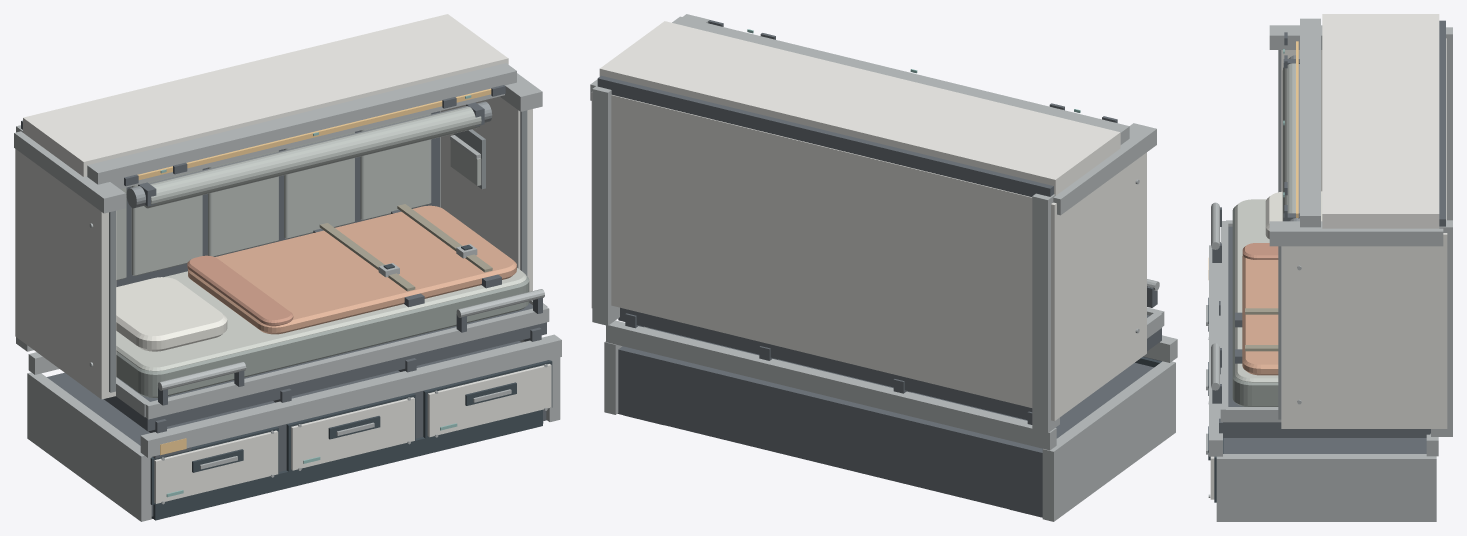
File: crew_sleep_berth_v1.glb
3 renders of one model, left to right at view 1: azimuth 30°, elevation 25°; view 2: azimuth 150°, elevation 25°; view 3: azimuth 270°, elevation 25°, orthographic. The views are drawn at different scales.
Visible parts, largest first — view 1: Cabin_Canopy_Top, Cabin_End_Shells, Cabin_Acoustic_Wall_Cushions, Sleep_Duvet, Cabin_Canopy_Front_Lip, Chassis_Underbed_Front_Rail, Chassis_Ends, Sleep_Mattress_Side_Seam, Privacy_Curtain_Fabric, Sleep_Deck_Bumper_Front, Chassis_Toe_Kick, Sleep_Mattress_Main (+23 smaller); view 2: Cabin_Back_Shell, Cabin_Canopy_Top, Chassis_Lower_Base, Cabin_End_Shells, Chassis_Ends, Chassis_Underbed_Rear_Rail, Cabin_Rear_Posts, Cabin_Canopy_Back_Beam, Sleep_Deck_Support, Cabin_Canopy_Front_Lip, Cabin_End_Top_Brace; view 3: Cabin_End_Shells, Cabin_Canopy_Top, Chassis_Ends, Cabin_Canopy_Front_Lip, Cabin_End_Top_Brace, Sleep_Duvet, Chassis_Lower_Base, Cabin_Rear_Posts, Sleep_Deck_Support, Sleep_Mattress_Main, Privacy_Curtain_Fabric, Chassis_Underbed_Front_Rail (+12 smaller).
Boxes of the visible parts, left/top/right/bottom form: Cabin_Canopy_Top: left=23, top=14, right=508, bottom=176; Cabin_End_Shells: left=15, top=96, right=532, bottom=399; Cabin_Acoustic_Wall_Cushions: left=116, top=113, right=431, bottom=280; Sleep_Duvet: left=188, top=205, right=516, bottom=334; Cabin_Canopy_Front_Lip: left=87, top=63, right=516, bottom=188; Chassis_Underbed_Front_Rail: left=140, top=334, right=561, bottom=457; Chassis_Ends: left=27, top=340, right=560, bottom=521; Sleep_Mattress_Side_Seam: left=116, top=276, right=529, bottom=397; Privacy_Curtain_Fabric: left=144, top=106, right=481, bottom=208; Sleep_Deck_Bumper_Front: left=145, top=305, right=549, bottom=419; Chassis_Toe_Kick: left=151, top=410, right=542, bottom=520; Sleep_Mattress_Main: left=116, top=268, right=526, bottom=371; Cabin_Back_Shell: left=611, top=95, right=1032, bottom=407; Cabin_Canopy_Top: left=599, top=21, right=1120, bottom=195; Chassis_Lower_Base: left=617, top=327, right=1153, bottom=517; Cabin_End_Shells: left=591, top=92, right=1146, bottom=421; Chassis_Ends: left=604, top=326, right=1175, bottom=521; Chassis_Underbed_Rear_Rail: left=606, top=320, right=1056, bottom=450; Cabin_Rear_Posts: left=592, top=85, right=1059, bottom=432; Cabin_Canopy_Back_Beam: left=597, top=75, right=1053, bottom=196; Sleep_Deck_Support: left=618, top=307, right=1161, bottom=419; Cabin_Canopy_Front_Lip: left=672, top=16, right=1129, bottom=144; Cabin_End_Top_Brace: left=590, top=14, right=1156, bottom=215; Cabin_End_Shells: left=1281, top=50, right=1447, bottom=428; Cabin_Canopy_Top: left=1322, top=14, right=1439, bottom=228; Chassis_Ends: left=1216, top=454, right=1436, bottom=521; Cabin_Canopy_Front_Lip: left=1300, top=18, right=1320, bottom=227; Cabin_End_Top_Brace: left=1269, top=25, right=1443, bottom=246; Sleep_Duvet: left=1242, top=255, right=1278, bottom=375; Chassis_Lower_Base: left=1223, top=438, right=1426, bottom=453; Cabin_Rear_Posts: left=1431, top=27, right=1452, bottom=436; Sleep_Deck_Support: left=1223, top=226, right=1430, bottom=434; Sleep_Mattress_Main: left=1235, top=199, right=1278, bottom=382; Privacy_Curtain_Fabric: left=1282, top=63, right=1295, bottom=221; Chassis_Underbed_Front_Rail: left=1209, top=245, right=1222, bottom=456.
Size of the model in its own units: 2.25 by 1.59 by 1.13.
